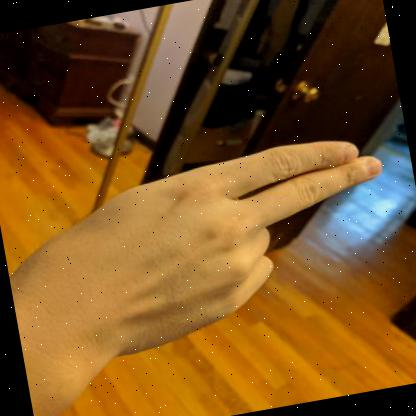H: (40, 141, 381, 374)
